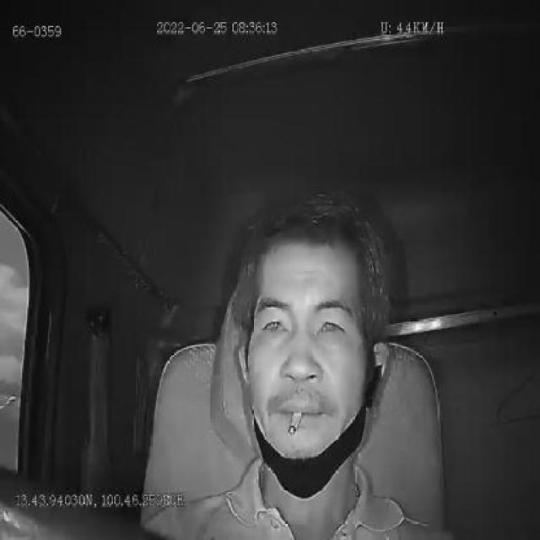smoking: (289, 410, 304, 436)
